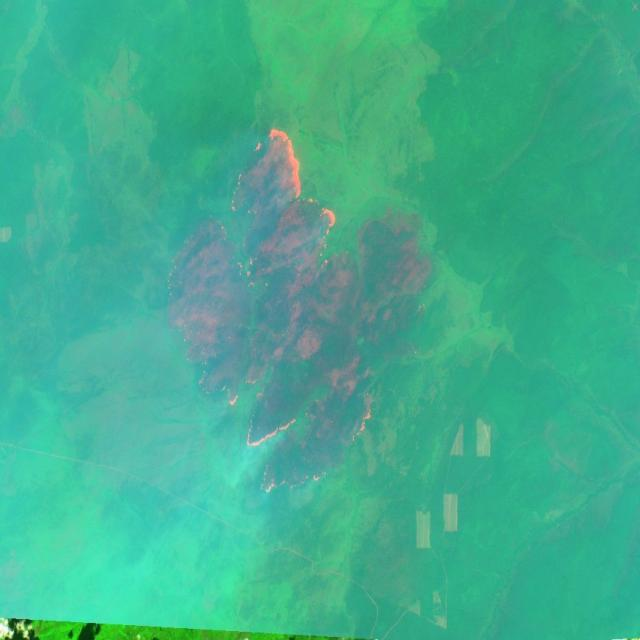fire: (223, 123, 338, 450)
